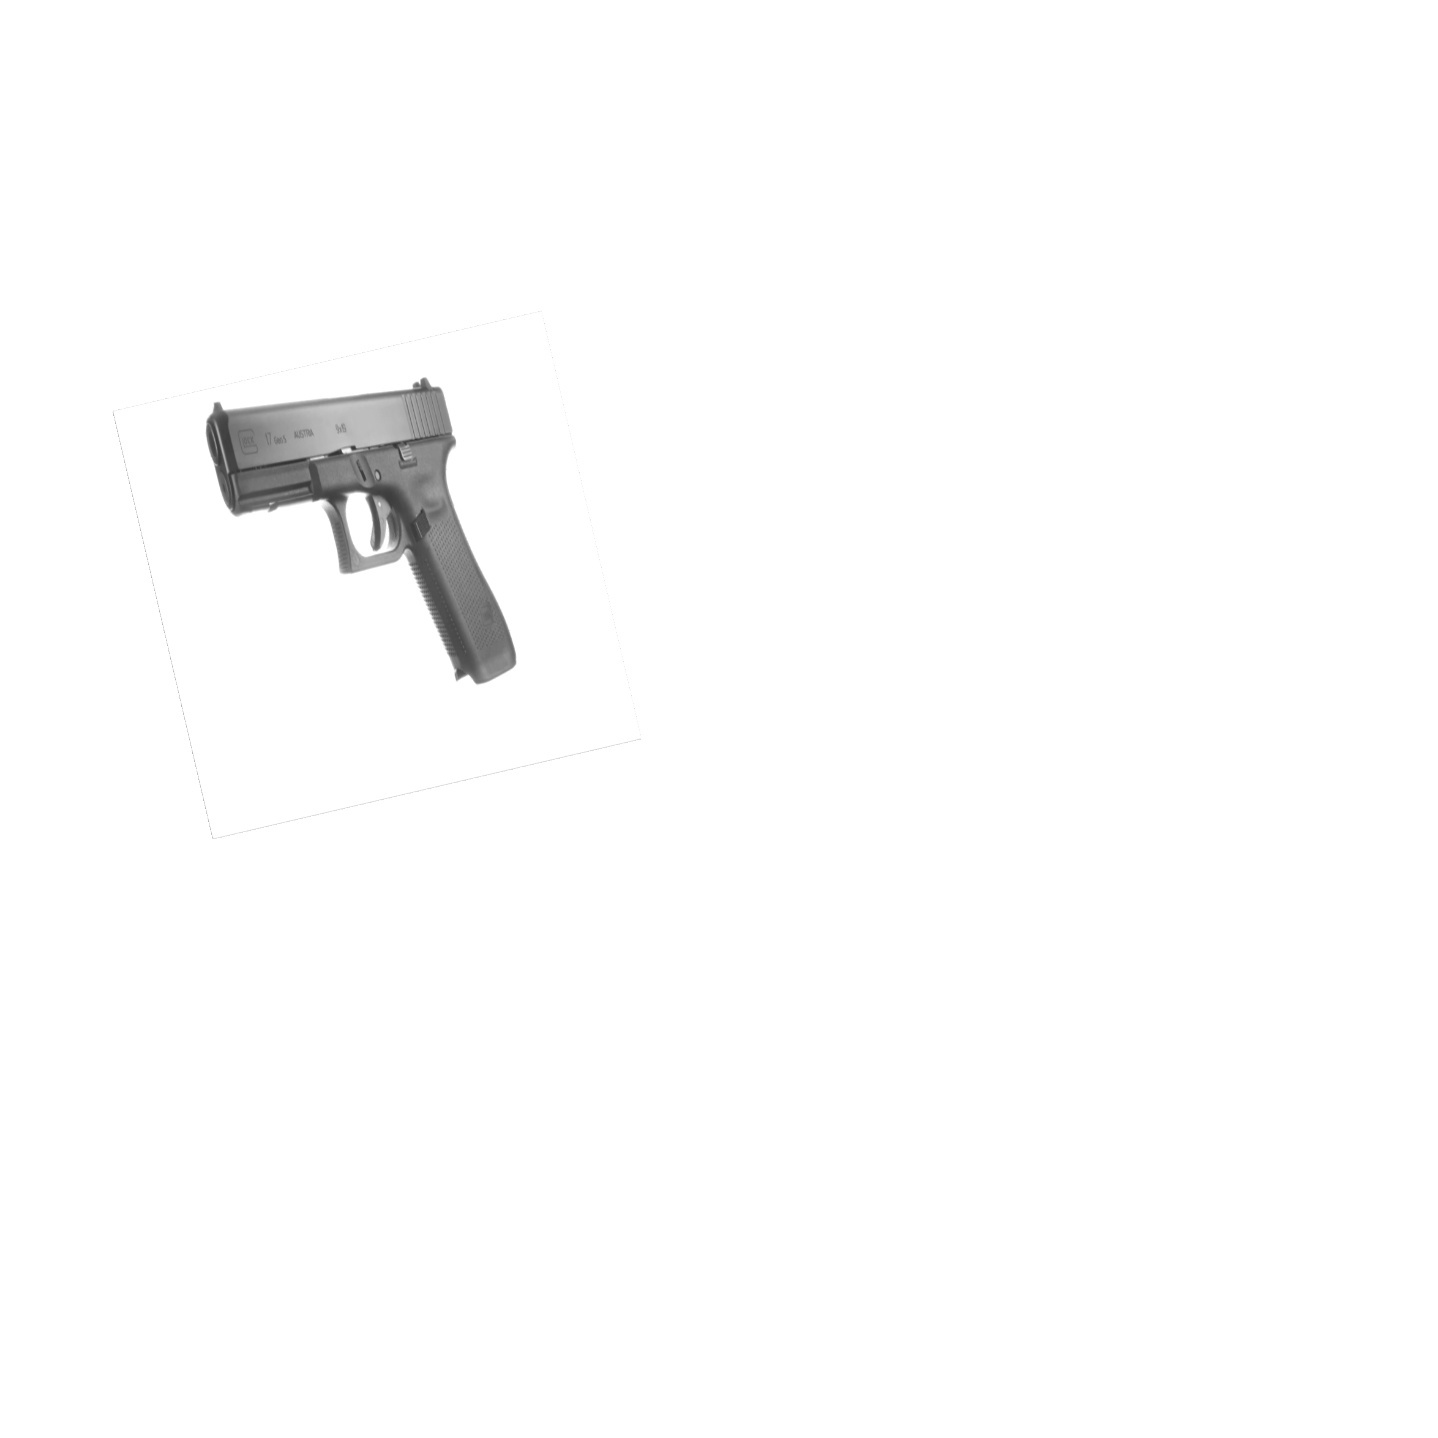gun: (204, 379, 518, 685)
